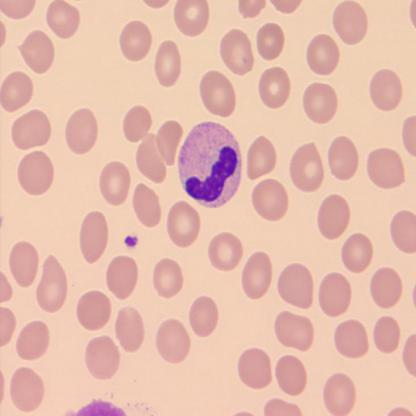Band Neutrophil: (175, 120, 244, 210)
